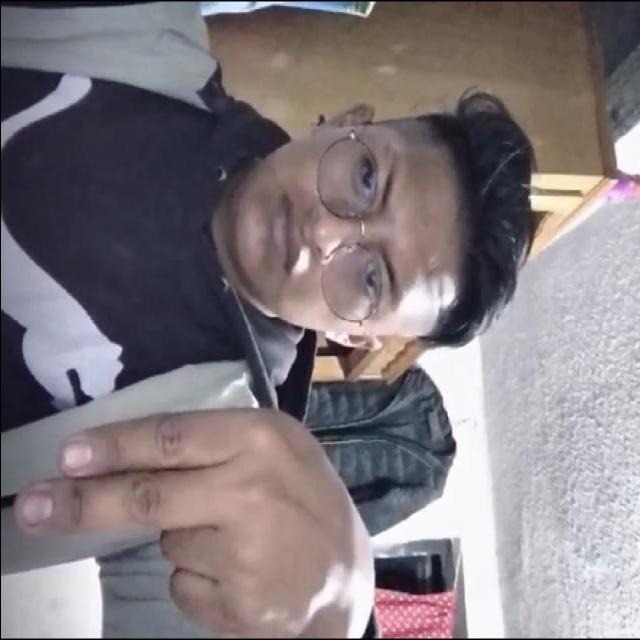N: (5, 393, 403, 640)
